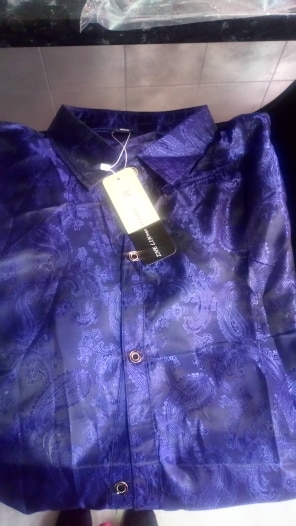shirts: (14, 102, 296, 495)
